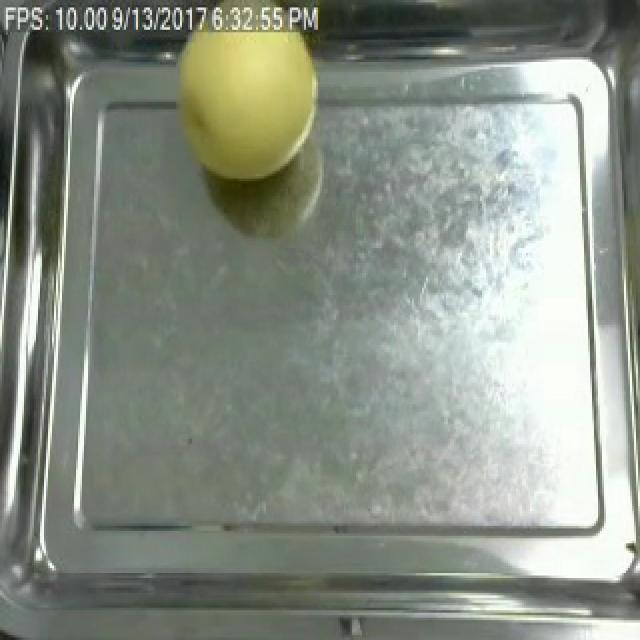Fruit: (166, 30, 330, 188)
